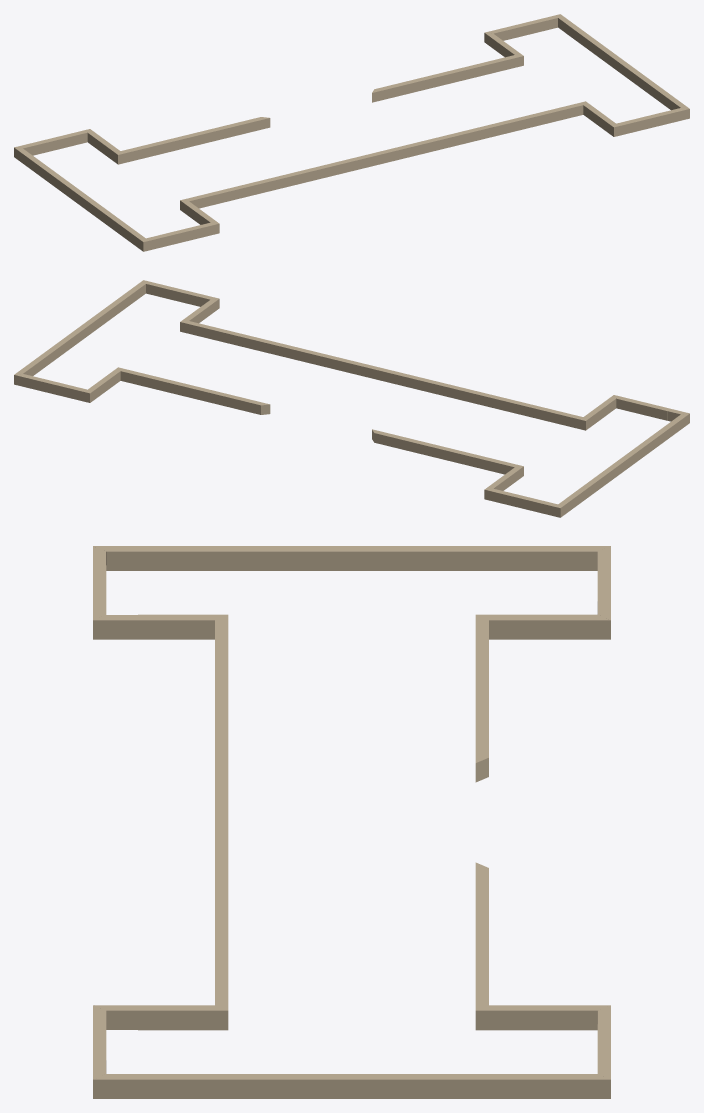
The model's file is SM_toplayer.glb.
The picture shows the model from 3 angles, top to bottom: view 1: azimuth 30°, elevation 25°; view 2: azimuth 150°, elevation 25°; view 3: azimuth 270°, elevation 25°; orthographic projection. The views are drawn at different scales.
Visible parts, largest first — view 1: in between trim; view 2: in between trim; view 3: in between trim.
Boxes of the visible parts, box(x1,y1,x2,y2) form: in between trim: box(14, 14, 689, 251); in between trim: box(14, 280, 689, 517); in between trim: box(93, 546, 610, 1098).
Bounding box in the file's own units: 59.02 × 1 × 24.22.
